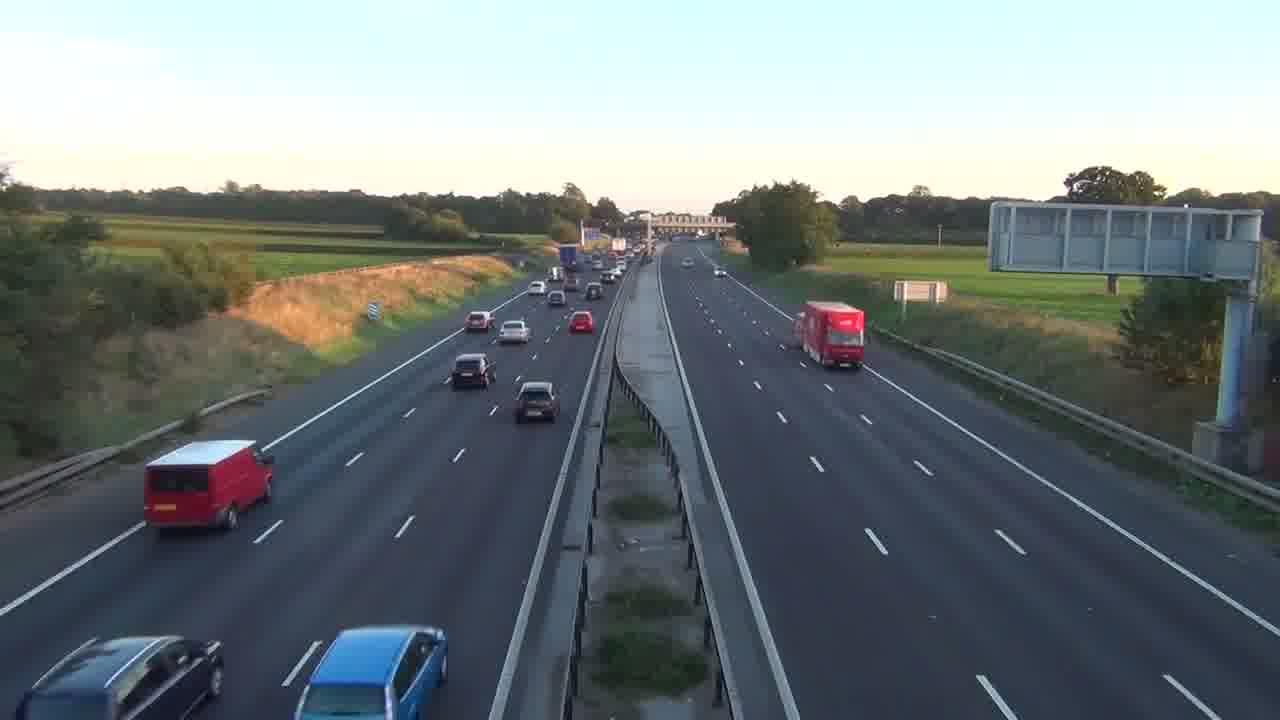bus: (143, 438, 274, 532), (795, 299, 866, 369)
car: (15, 632, 225, 719), (292, 623, 449, 719), (513, 380, 561, 423), (448, 352, 497, 390), (496, 319, 531, 345), (464, 309, 493, 333), (568, 310, 595, 335), (545, 289, 566, 307), (528, 280, 547, 295)
